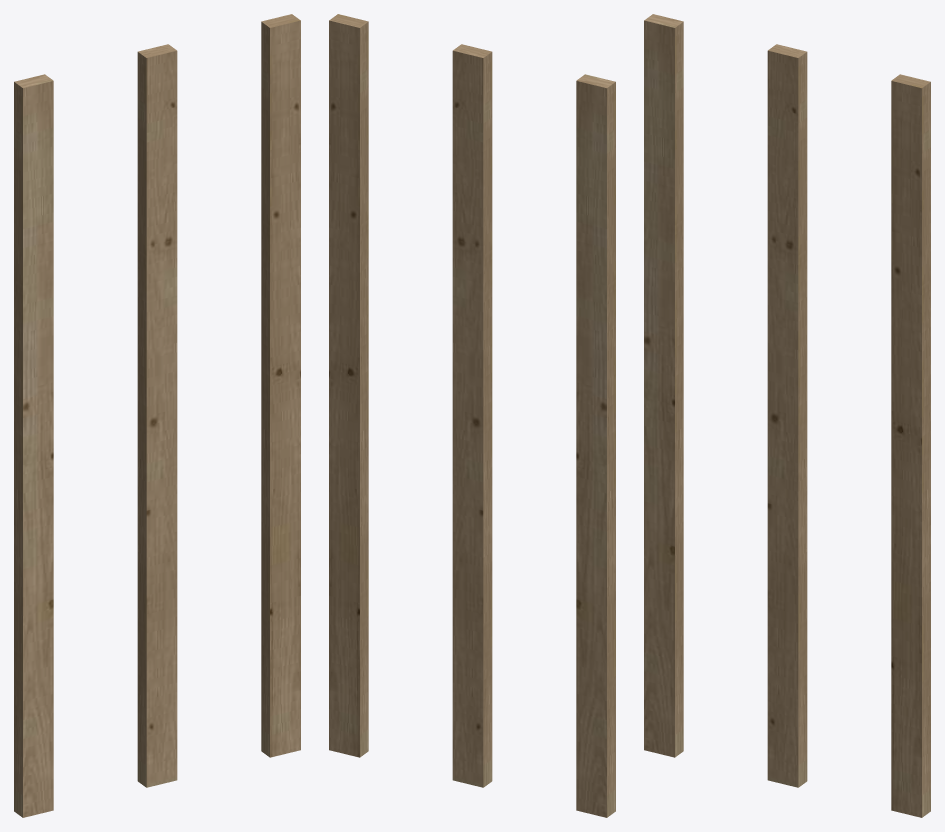
File: Joglo_part_208.fbx
3 renders of one model, left to right at view 1: azimuth 30°, elevation 25°; view 2: azimuth 150°, elevation 25°; view 3: azimuth 330°, elevation 25°, orthographic.
Visible parts, largest first — view 1: Mesh281_Wood___Pine_Grained_Horizontal_0.001; view 2: Mesh281_Wood___Pine_Grained_Horizontal_0.001; view 3: Mesh281_Wood___Pine_Grained_Horizontal_0.001.
Boxes of the visible parts, bbox=[...] form: Mesh281_Wood___Pine_Grained_Horizontal_0.001: bbox=[14, 14, 300, 817]; Mesh281_Wood___Pine_Grained_Horizontal_0.001: bbox=[329, 14, 615, 817]; Mesh281_Wood___Pine_Grained_Horizontal_0.001: bbox=[644, 14, 930, 817].
Size of the model in its own units: 28.43 by 71.34 by 1.57.
